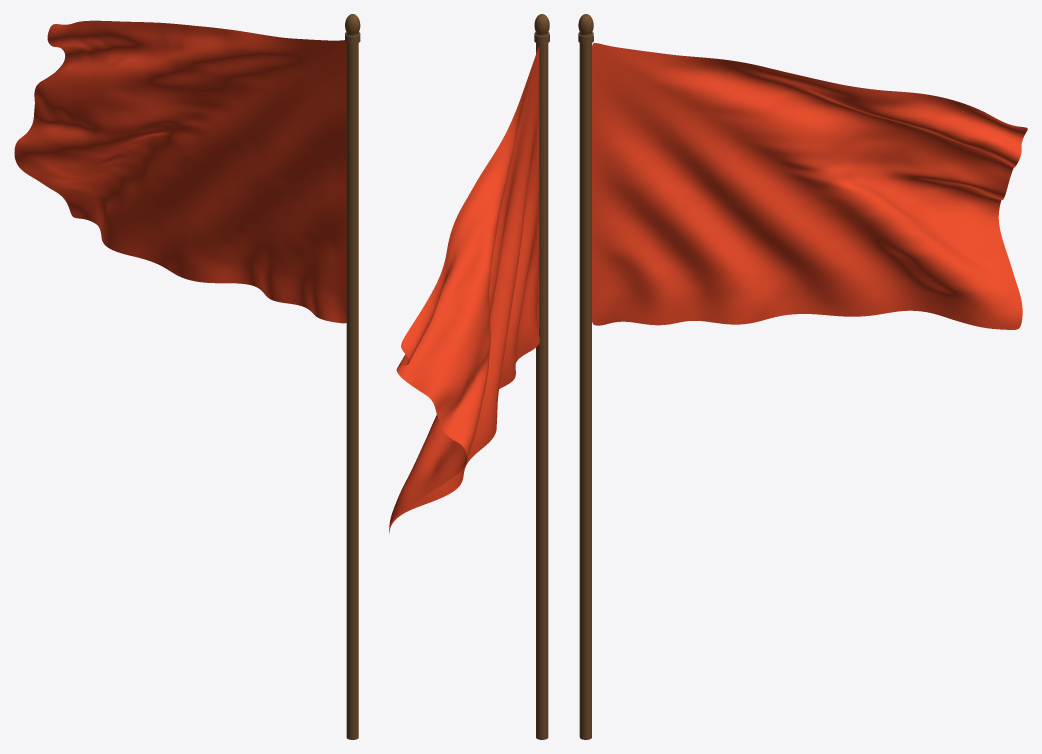
File: 1_flag.glb
3 views of the same model, side by side, from view 1: azimuth 30°, elevation 25°; view 2: azimuth 150°, elevation 25°; view 3: azimuth 270°, elevation 25° (orthographic).
Visible parts, largest first — view 1: steag, stick; view 2: steag, stick; view 3: steag, stick.
Part boxes in pixels (x1,y1,x2,y2): steag: (14,20,346,323); stick: (344,14,360,739); steag: (389,47,539,533); stick: (534,14,549,739); steag: (592,43,1027,329); stick: (578,14,593,739).
Bounding box in the file's own units: 0.4065 × 2.03 × 1.14.
